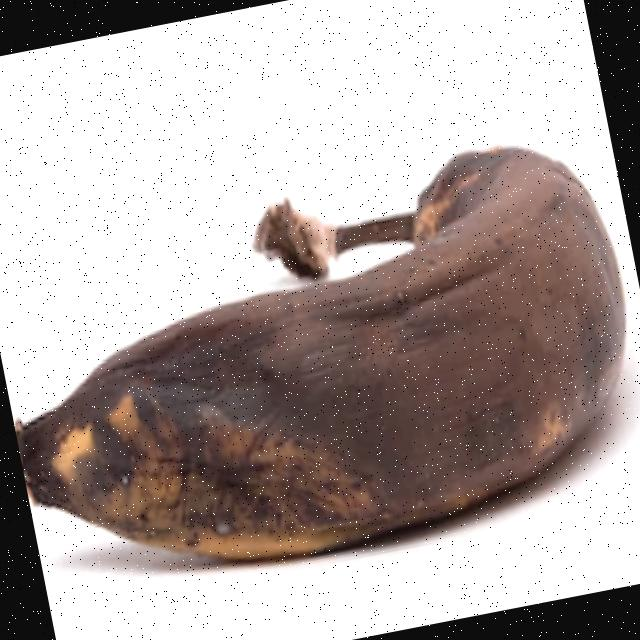Rotten: (0, 53, 640, 626)
